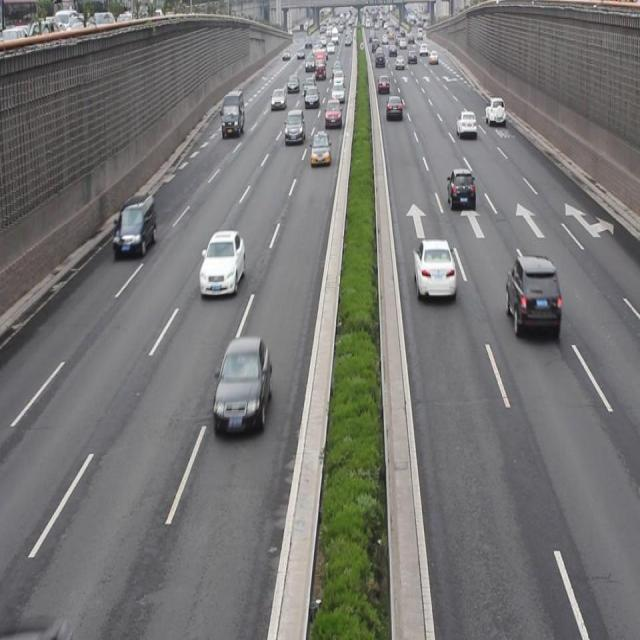car: (210, 332, 272, 434), (505, 252, 560, 338), (199, 228, 246, 296), (112, 193, 156, 256), (412, 237, 455, 300), (447, 167, 476, 210), (310, 131, 331, 165), (483, 95, 505, 127), (456, 107, 476, 136), (324, 98, 342, 128), (386, 94, 403, 121)
truck: (220, 90, 245, 138), (283, 110, 304, 142)
